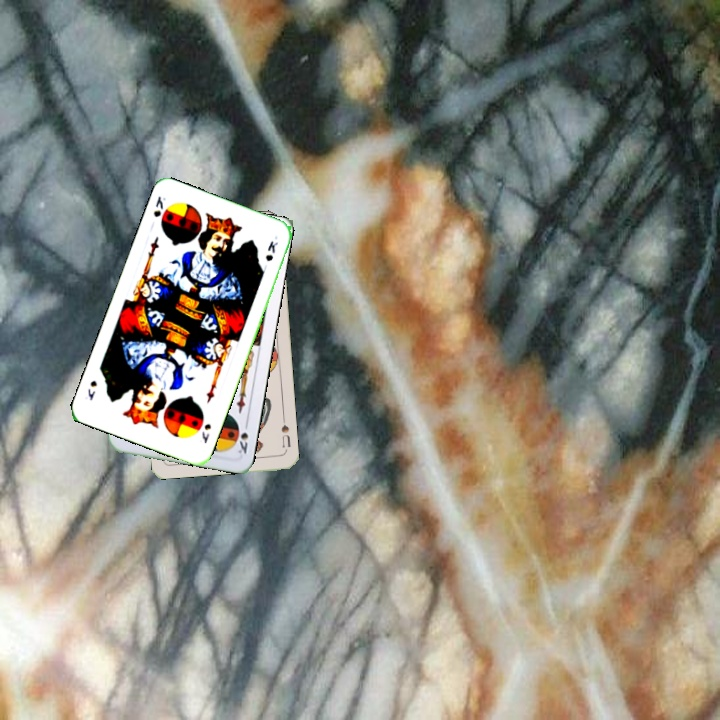SK: (233, 417, 251, 456), (149, 192, 168, 220), (198, 419, 214, 446)
SU: (277, 413, 293, 454)
